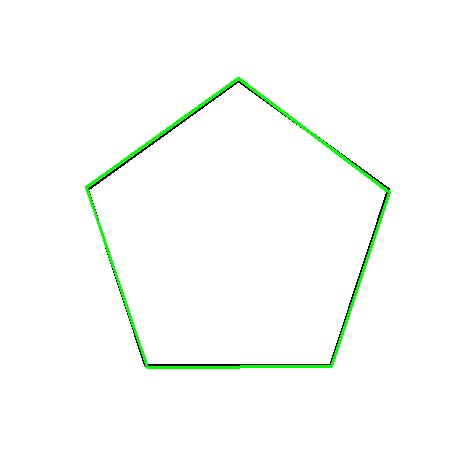line_segment: (86, 78, 390, 368)
